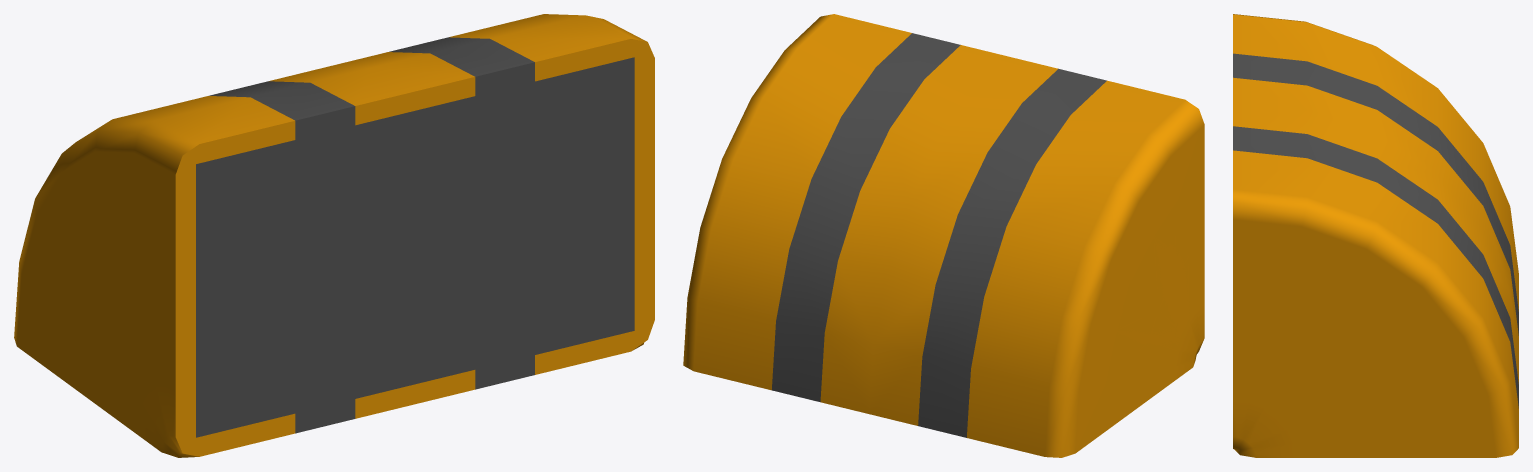
The model's file is obj_dekotora_stripelight04.fbx.
3 views of the same model, side by side, from view 1: azimuth 30°, elevation 25°; view 2: azimuth 150°, elevation 25°; view 3: azimuth 270°, elevation 25° (orthographic). The views are drawn at different scales.
Parts seen in each view (by area): view 1: Cube.035; view 2: Cube.035; view 3: Cube.035.
Part boxes in pixels (box(x1,y1,x2,y2)): Cube.035: box(14, 14, 654, 457); Cube.035: box(683, 14, 1204, 457); Cube.035: box(1233, 14, 1518, 457).
Size of the model in its own units: 1.6 by 0.9979 by 0.9979.
